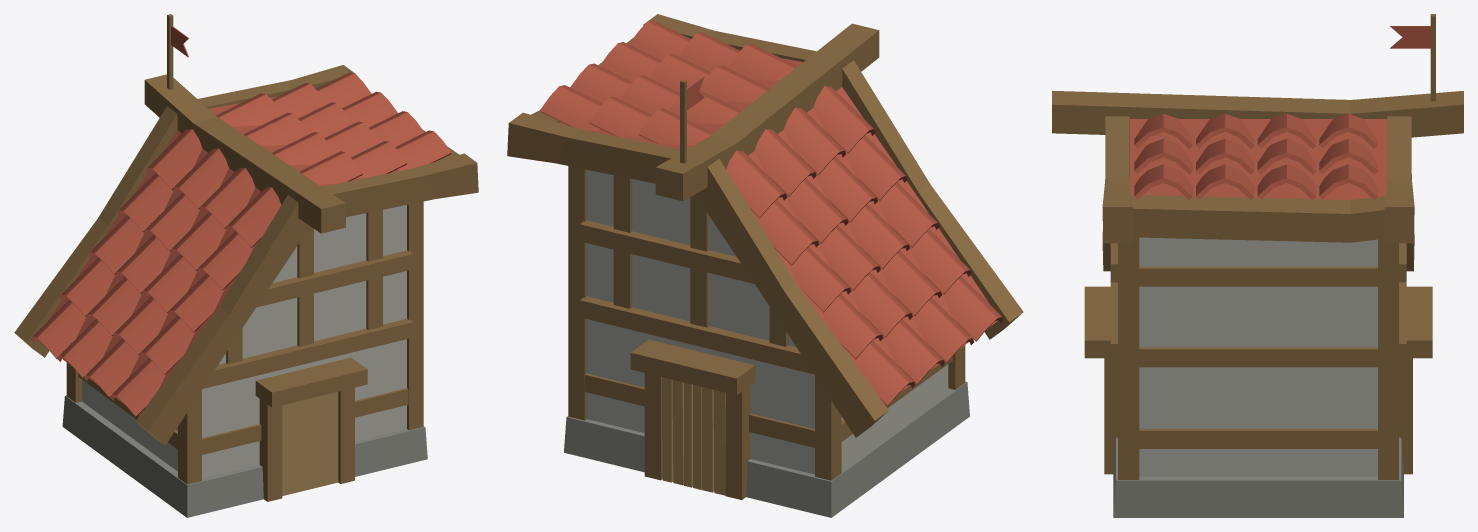
File: q-house-nihggju7dw.glb
3 renders of one model, left to right at view 1: azimuth 30°, elevation 25°; view 2: azimuth 150°, elevation 25°; view 3: azimuth 270°, elevation 25°, orthographic. The views are drawn at different scales.
Visible parts, largest first — view 1: Houses_SecondAge_2_Level1; view 2: Houses_SecondAge_2_Level1; view 3: Houses_SecondAge_2_Level1.
Boxes of the visible parts, x1,y1,x2,y2 form: Houses_SecondAge_2_Level1: (14, 14, 478, 517); Houses_SecondAge_2_Level1: (507, 14, 1023, 517); Houses_SecondAge_2_Level1: (1052, 14, 1463, 517).
Size of the model in its own units: 0.8875 by 0.9455 by 0.8113.
